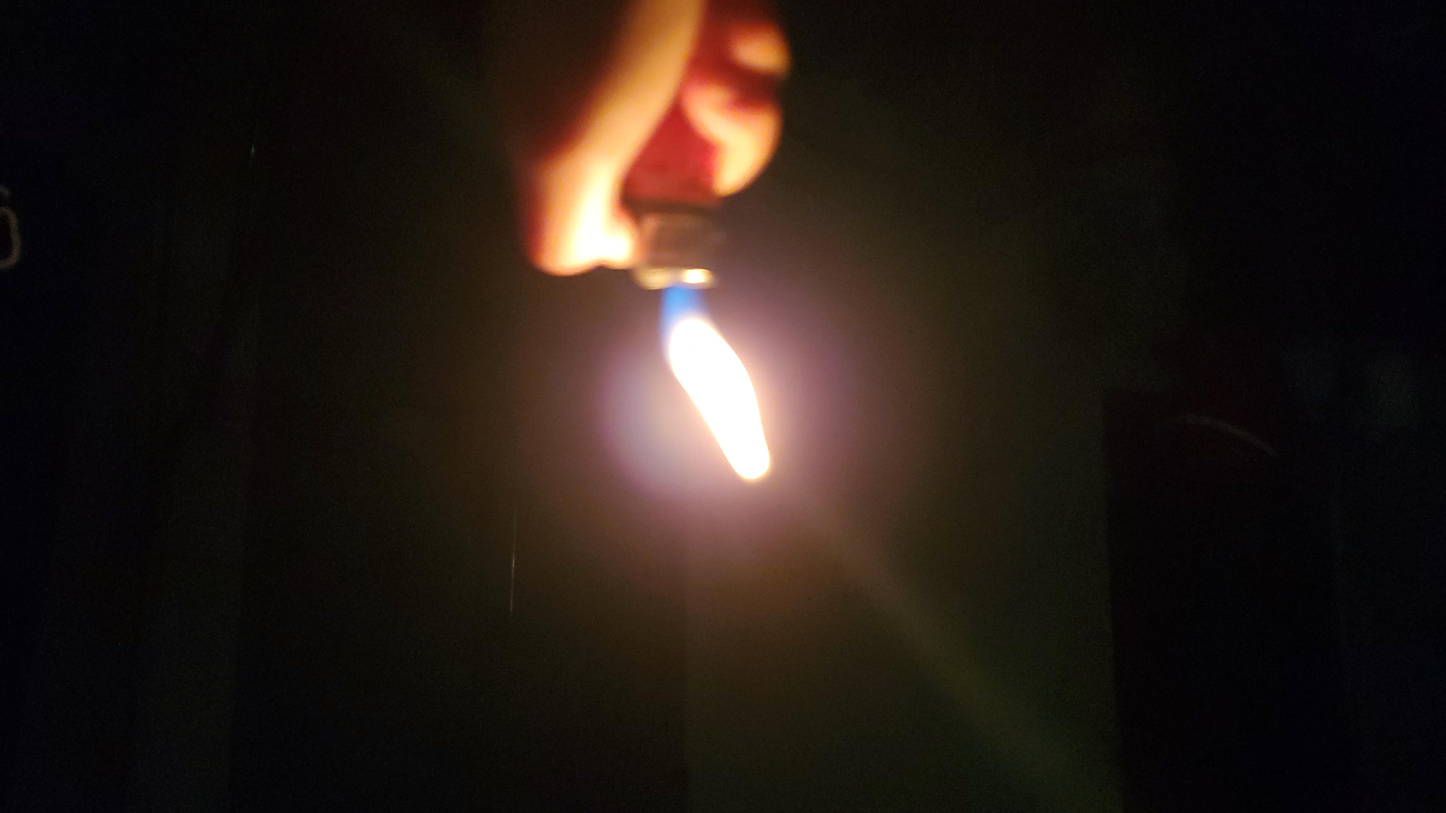fire: (664, 305, 796, 499)
